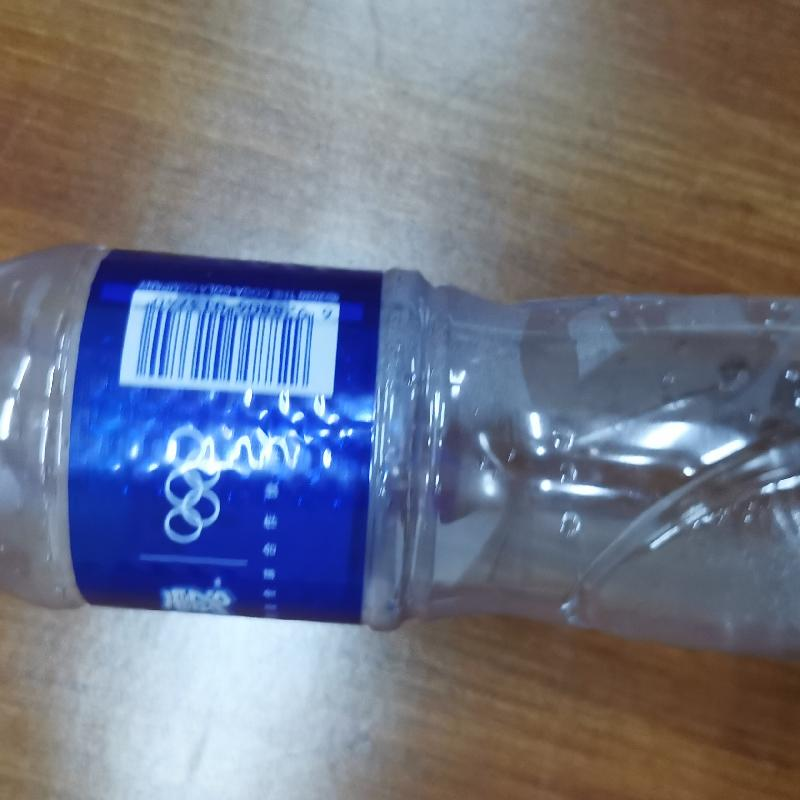bottles: (6, 243, 799, 665)
